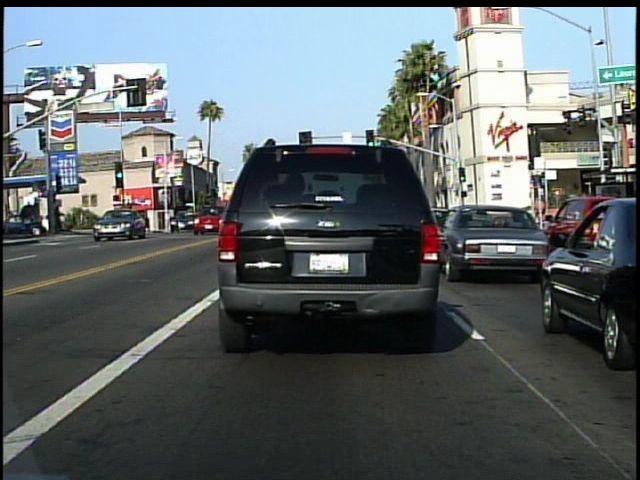person: (15, 202, 38, 240)
